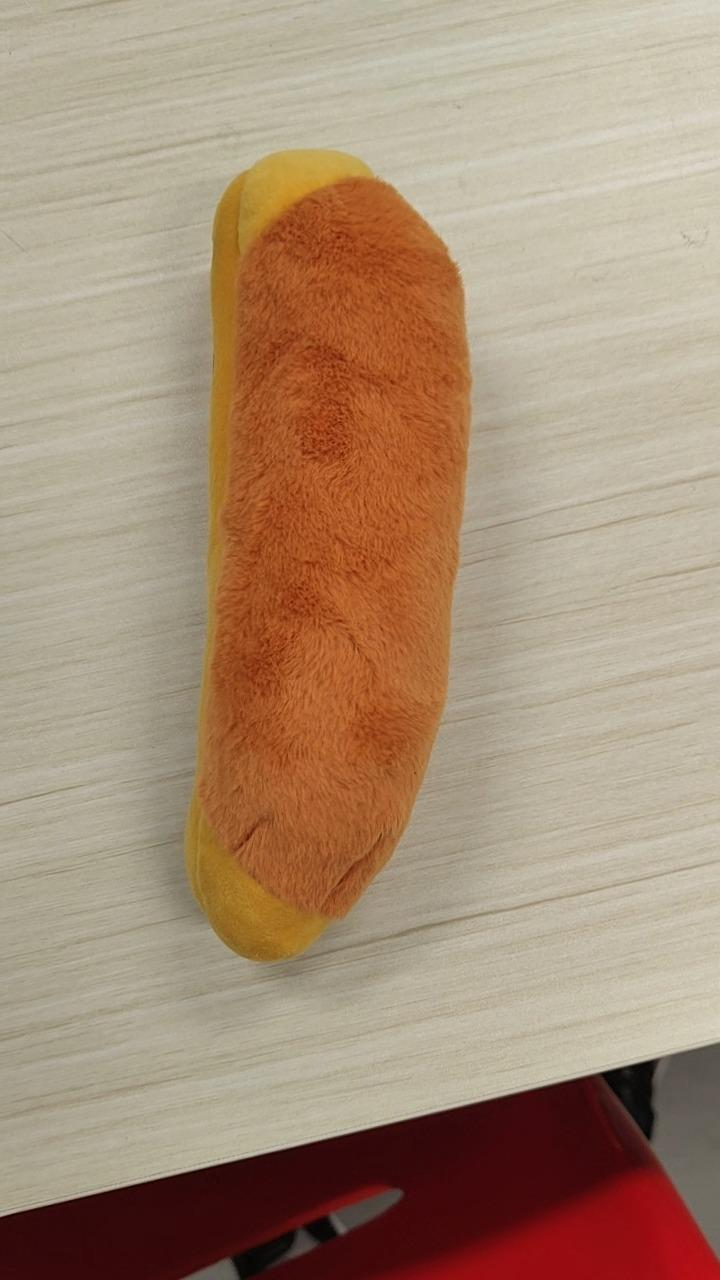hotdog: (182, 146, 473, 962)
